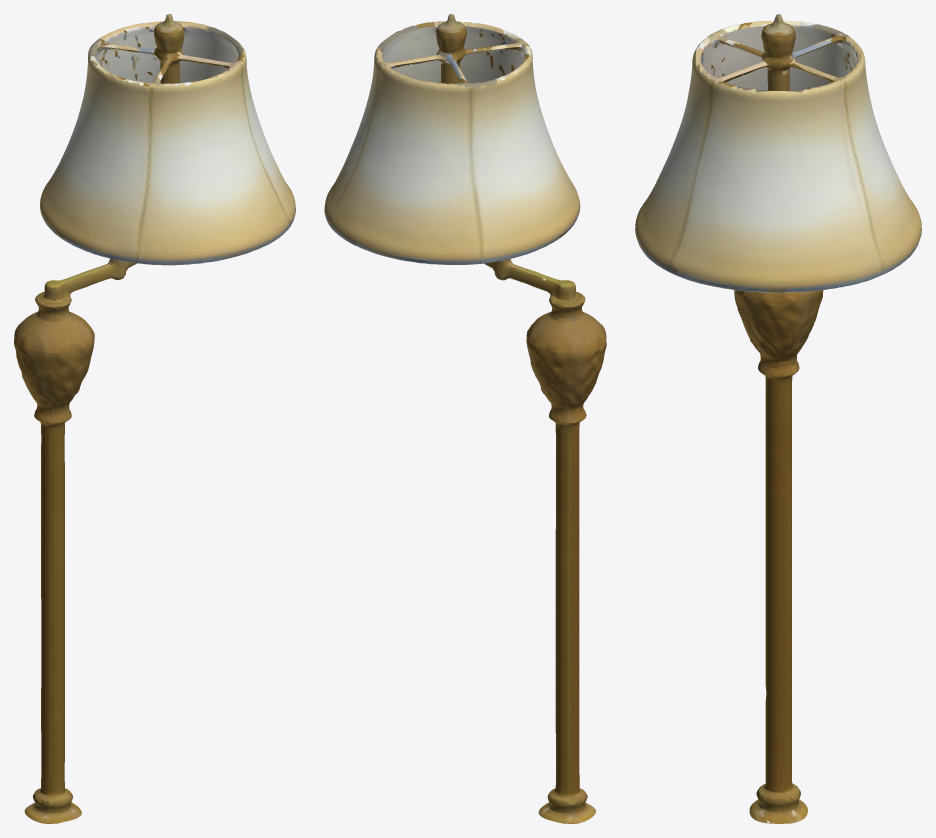
File: lamp__lamp#4.glb
3 renders of one model, left to right at view 1: azimuth 30°, elevation 25°; view 2: azimuth 150°, elevation 25°; view 3: azimuth 270°, elevation 25°, orthographic. The views are drawn at different scales.
Parts seen in each view (by area): view 1: tmpy64irpnm.ply; view 2: tmpy64irpnm.ply; view 3: tmpy64irpnm.ply.
Boxes of the visible parts, <box> form: tmpy64irpnm.ply: <box>14,14,295,823</box>; tmpy64irpnm.ply: <box>324,14,606,823</box>; tmpy64irpnm.ply: <box>635,14,921,823</box>.
Size of the model in its own units: 0.6953 by 1.99 by 0.5998.
Materials: 1 (1 with a texture image).
